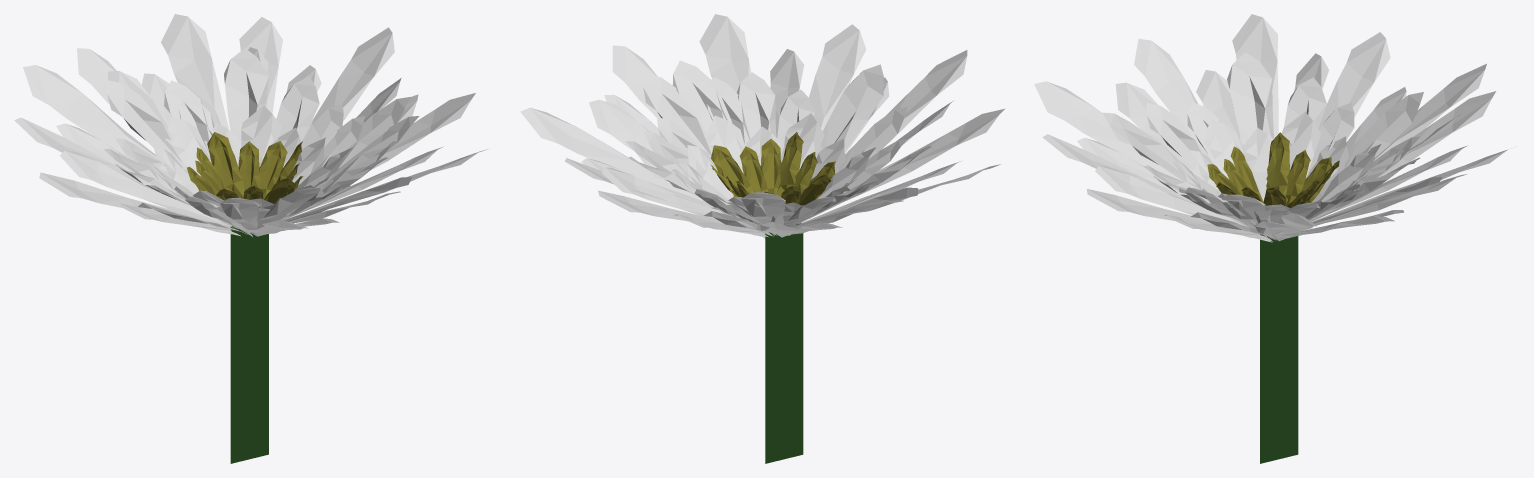
The model's file is flower.glb.
3 views of the same model, side by side, from view 1: azimuth 30°, elevation 25°; view 2: azimuth 150°, elevation 25°; view 3: azimuth 270°, elevation 25° (orthographic).
Visible parts, largest first — view 1: Cylinder, petal.130, petal.126, petal.134, petal.106, petal.123, petal.103, petal.107, petal.112, petal.132, petal.122, petal.109 (+30 smaller); view 2: Cylinder, petal.134, petal.116, petal.097, petal.114, petal.109, petal.120, petal.118, petal.094, petal.095, petal.131, petal.135 (+30 smaller); view 3: Cylinder, petal.100, petal.118, petal.124, petal.120, petal.103, petal.122, petal.126, petal.128, petal.115, petal.097, petal.098 (+31 smaller).
Part boxes in pixels (box(x1,y1,x2,y2)): Cylinder: box(230, 226, 268, 463); petal.130: box(161, 14, 228, 128); petal.126: box(23, 65, 156, 158); petal.134: box(304, 27, 394, 136); petal.106: box(224, 48, 268, 165); petal.123: box(59, 150, 225, 224); petal.103: box(107, 80, 187, 172); petal.107: box(276, 76, 319, 141); petal.112: box(370, 93, 475, 170); petal.132: box(239, 17, 282, 113); petal.122: box(39, 172, 230, 234); petal.109: box(314, 97, 410, 170); Cylinder: box(765, 223, 803, 463); petal.134: box(520, 107, 718, 210); petal.116: box(809, 24, 866, 131); petal.097: box(815, 64, 883, 157); petal.114: box(699, 14, 751, 92); petal.109: box(643, 73, 712, 156); petal.120: box(798, 108, 1004, 224); petal.118: box(845, 50, 967, 154); petal.094: box(672, 60, 727, 132); petal.095: box(737, 72, 776, 138); petal.131: box(601, 167, 723, 218); petal.135: box(589, 99, 653, 151); Cylinder: box(1260, 234, 1298, 463); petal.100: box(1227, 52, 1273, 158); petal.118: box(1034, 81, 1191, 187); petal.124: box(1318, 32, 1390, 129); petal.120: box(1134, 38, 1216, 166); petal.103: box(1311, 92, 1423, 202); petal.122: box(1232, 14, 1278, 138); petal.126: box(1374, 63, 1486, 160); petal.128: box(1376, 91, 1496, 178); petal.115: box(1095, 166, 1241, 224); petal.097: box(1103, 112, 1200, 189); petal.098: box(1146, 102, 1213, 166).
Size of the model in its own units: 0.0939 by 0.0727 by 0.0949.
